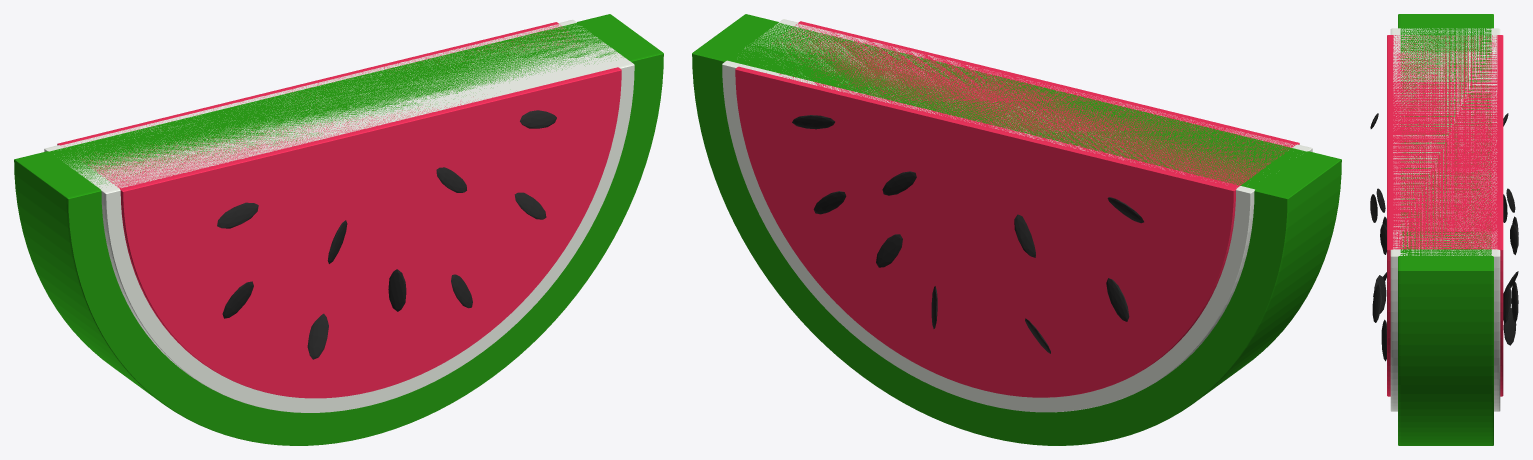
Rendered from watermelon.glb.
The picture shows the model from 3 angles, left to right: view 1: azimuth 30°, elevation 25°; view 2: azimuth 150°, elevation 25°; view 3: azimuth 270°, elevation 25°; orthographic projection. The views are drawn at different scales.
Parts seen in each view (by area): view 1: Flesh, Rind, Pith, SeedProto.004, SeedProto.005; view 2: Flesh, Rind, Pith; view 3: Rind, Flesh, Pith, SeedProto.018, SeedProto.006, SeedProto.015, SeedProto.013, SeedProto.003, SeedProto.009, SeedProto.012, SeedProto.002, SeedProto.010.
Part boxes in pixels (x1,y1,x2,y2): Flesh: [57, 22, 621, 398]; Rind: [14, 14, 663, 445]; Pith: [44, 19, 634, 412]; SeedProto.004: [307, 313, 328, 359]; SeedProto.005: [217, 202, 258, 228]; Flesh: [735, 21, 1299, 397]; Rind: [692, 14, 1341, 445]; Pith: [722, 19, 1312, 412]; Rind: [1398, 14, 1493, 445]; Flesh: [1387, 35, 1503, 396]; Pith: [1390, 28, 1500, 411]; SeedProto.018: [1503, 308, 1516, 345]; SeedProto.006: [1372, 284, 1381, 322]; SeedProto.015: [1503, 284, 1511, 322]; SeedProto.013: [1511, 281, 1518, 322]; SeedProto.003: [1374, 275, 1386, 313]; SeedProto.009: [1381, 319, 1386, 361]; SeedProto.012: [1510, 223, 1518, 251]; SeedProto.002: [1370, 194, 1377, 222]; SeedProto.010: [1380, 224, 1386, 251].
Size of the model in its own units: 3.2 by 1.6 by 0.7821.
